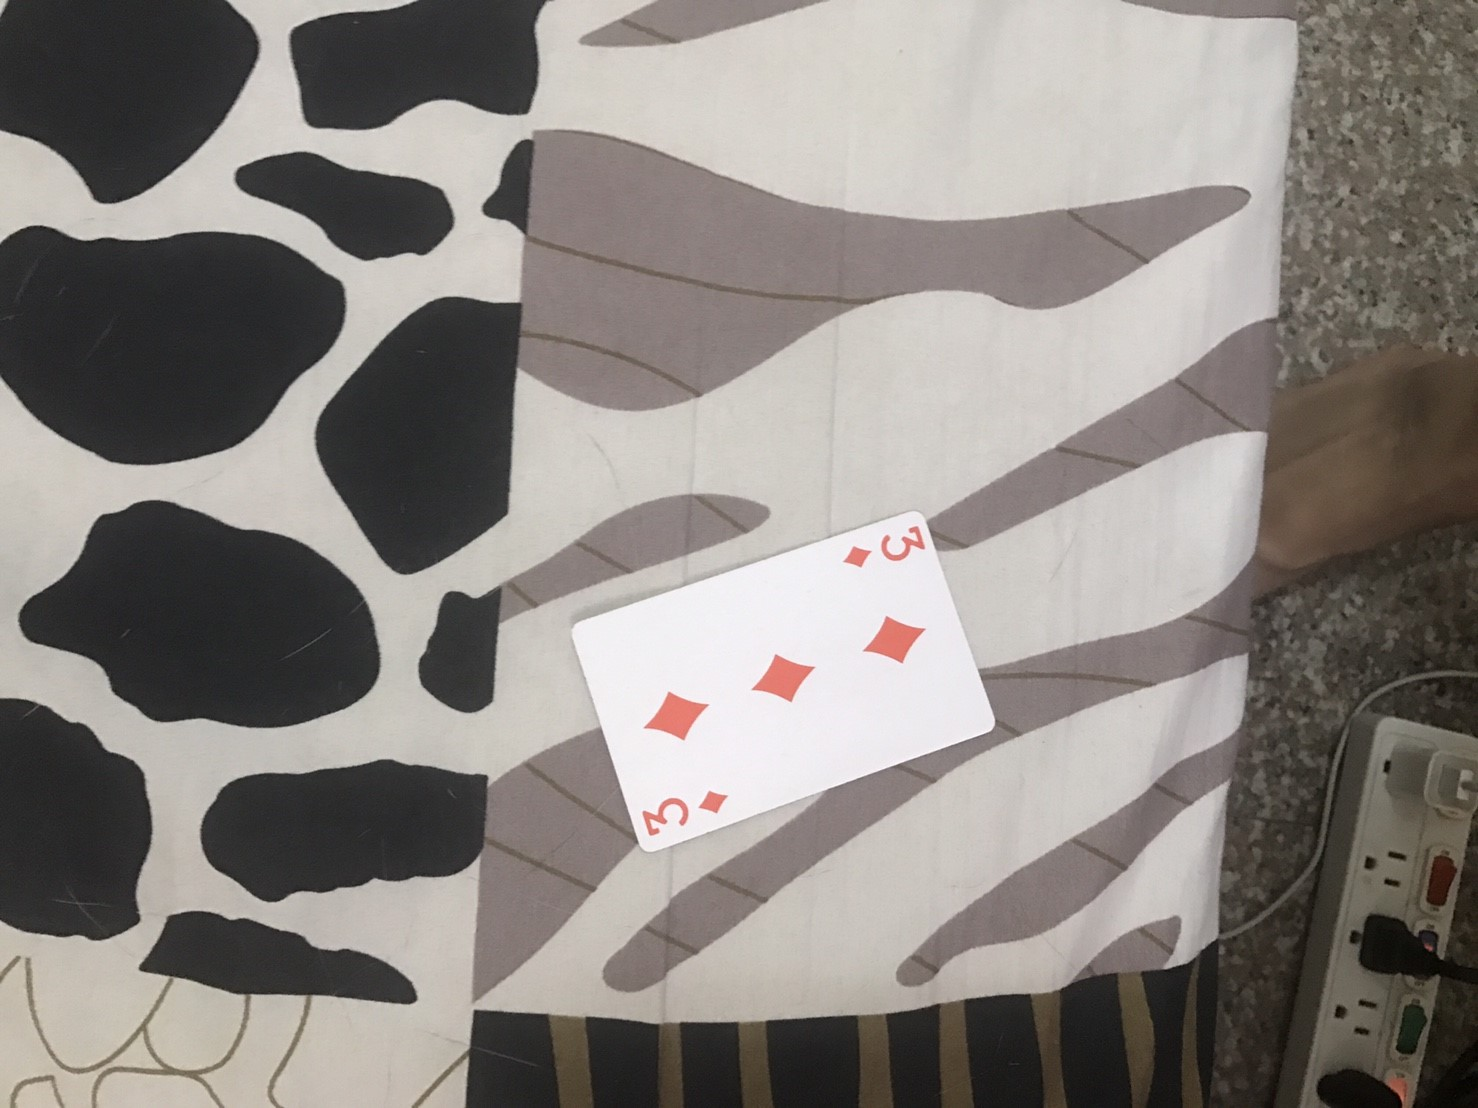diamonds: (645, 684, 710, 743), (752, 651, 817, 709), (864, 615, 925, 665), (845, 541, 871, 569), (699, 793, 729, 815)
